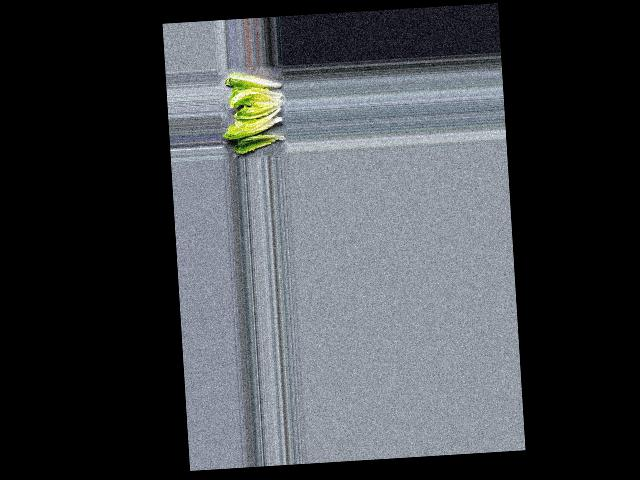lettuce: (233, 132, 287, 152)
